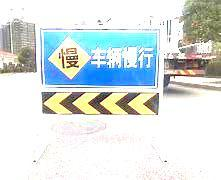sign: (37, 27, 159, 118)
